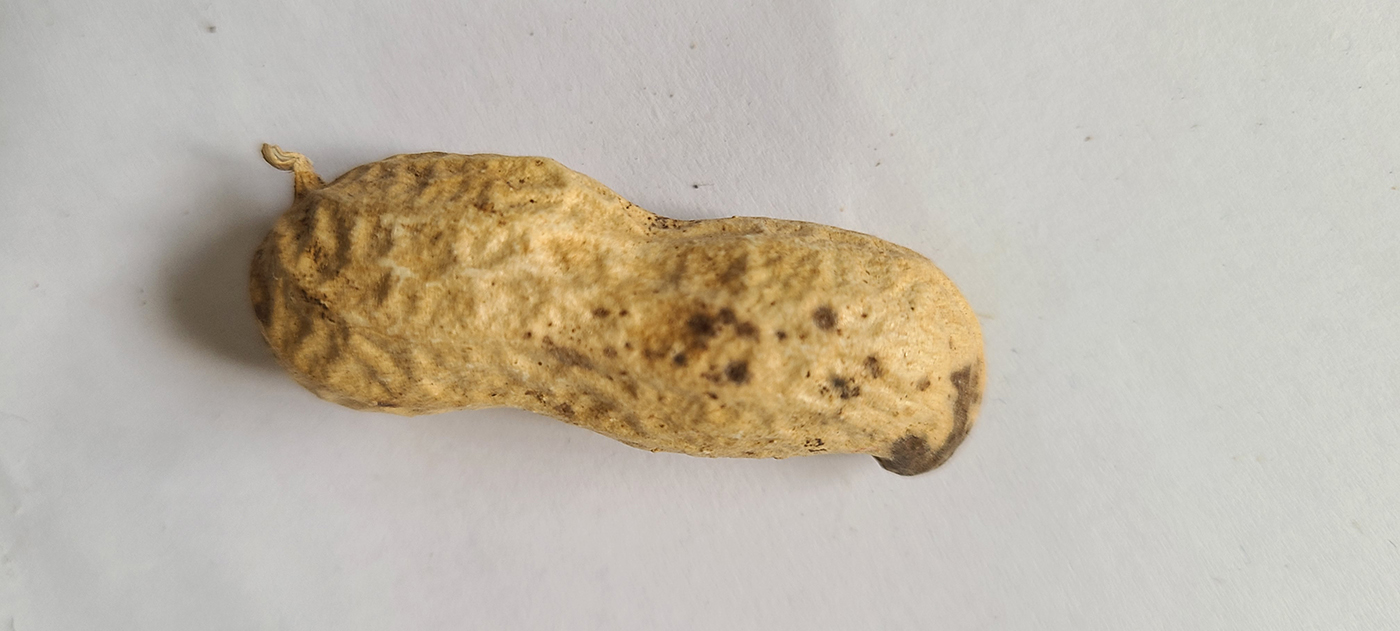h: (247, 147, 990, 480)
